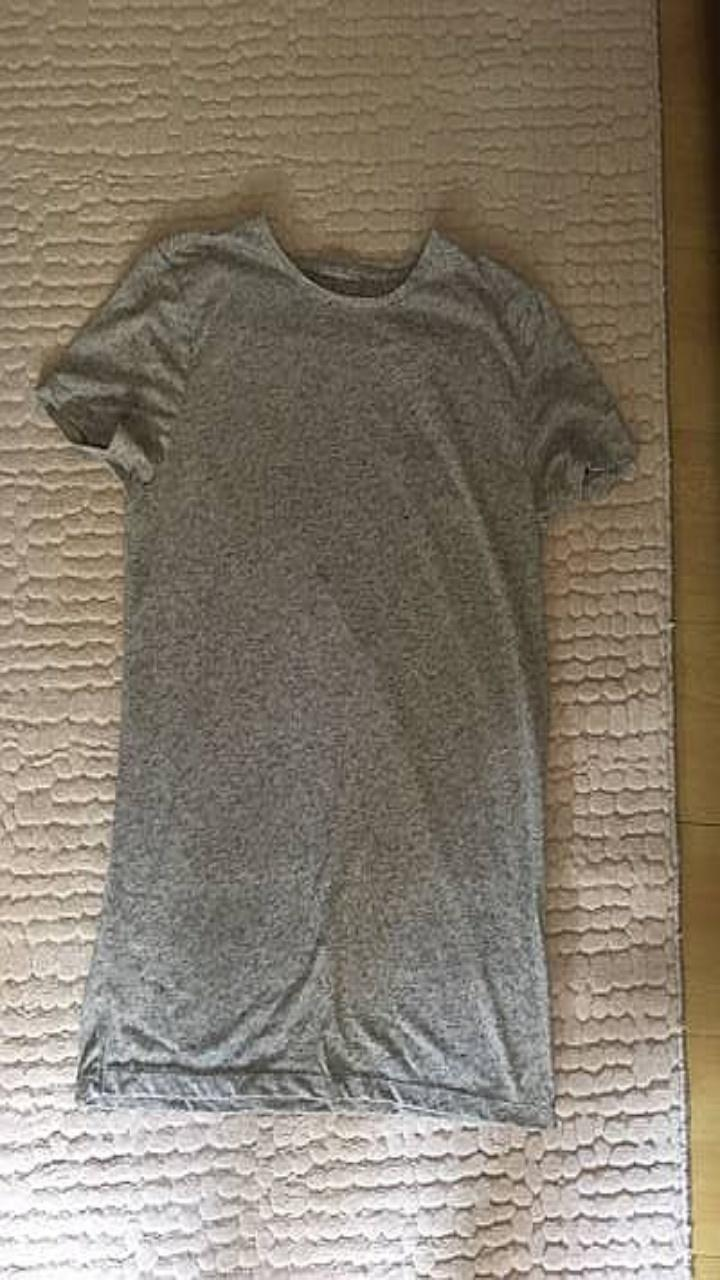T-Shirt: (36, 215, 635, 1127)
